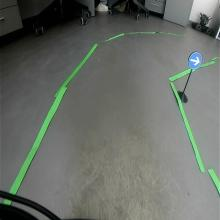right: (187, 52, 202, 68)
